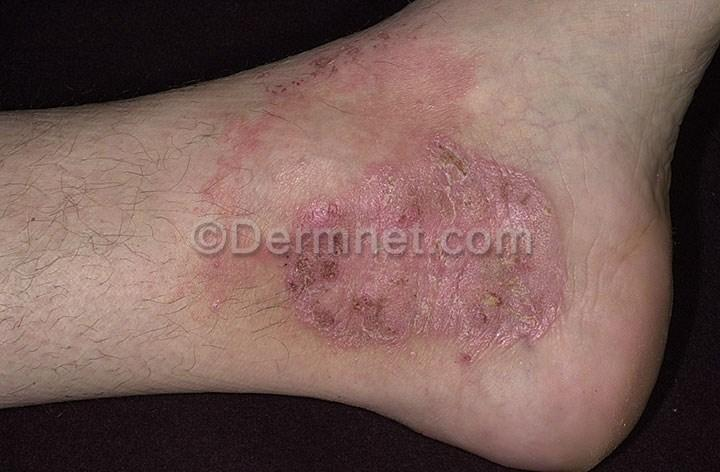Eczema: (288, 133, 612, 383), (249, 55, 364, 116), (360, 22, 412, 59)
